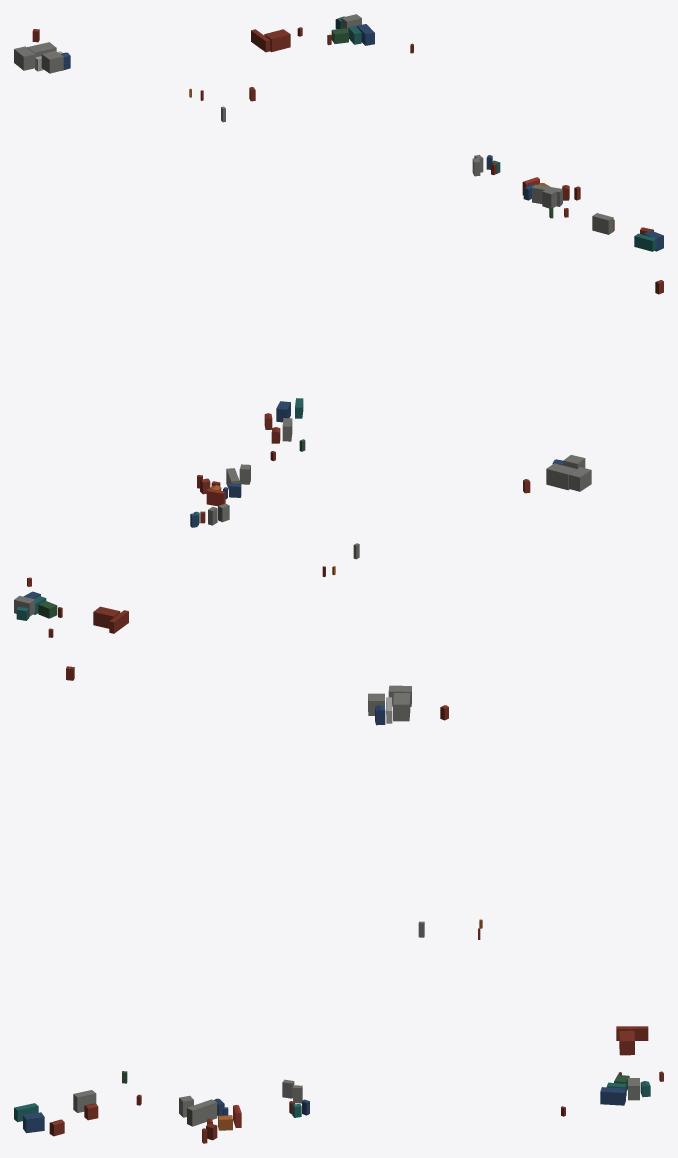
File: near-15-27357-14862.2adde2cf.glb
The picture shows the model from 3 angles, top to bottom: view 1: azimuth 30°, elevation 25°; view 2: azimuth 150°, elevation 25°; view 3: azimuth 270°, elevation 25°; orthographic projection. The views are drawn at different scales.
Bounding box in the file's own units: 857 × 433 × 940.
